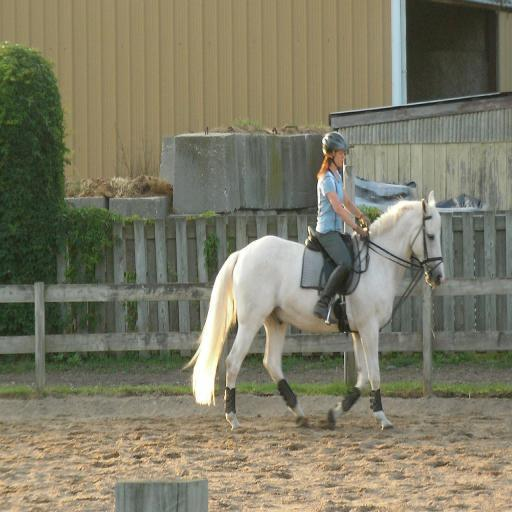horse: (178, 189, 446, 432)
